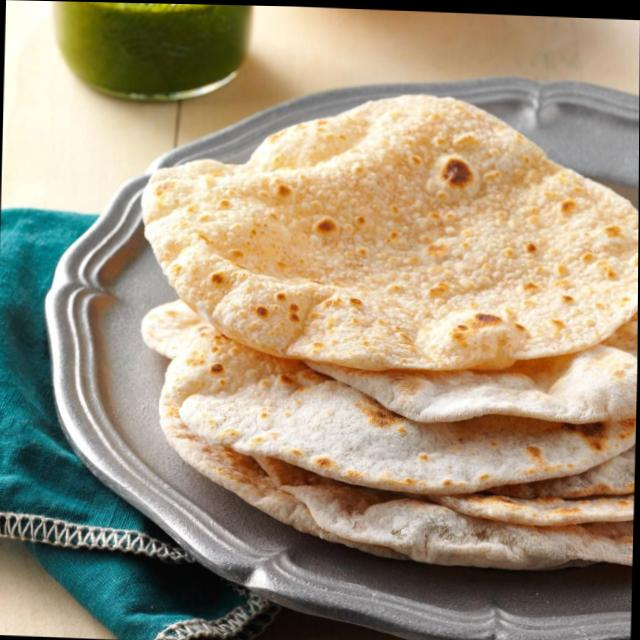CHAPATHI: (136, 95, 638, 568)
